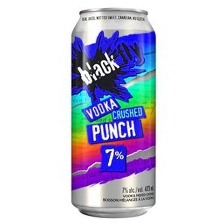can: (68, 1, 162, 222)
